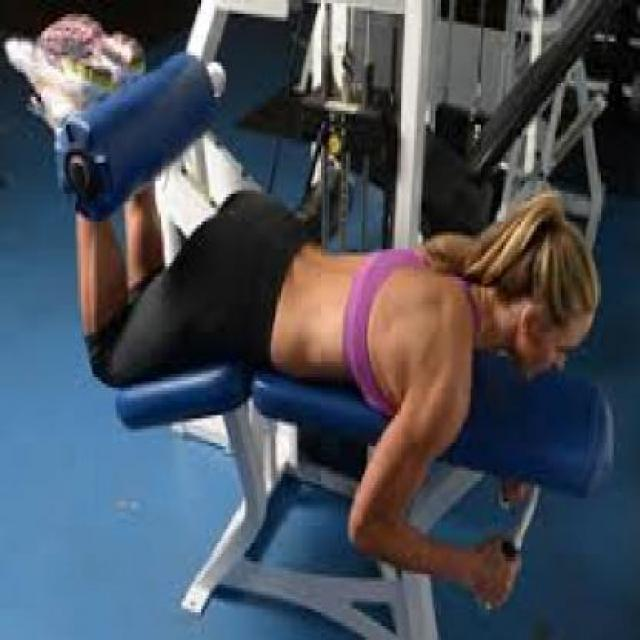reg curl machine: (0, 12, 638, 636)
